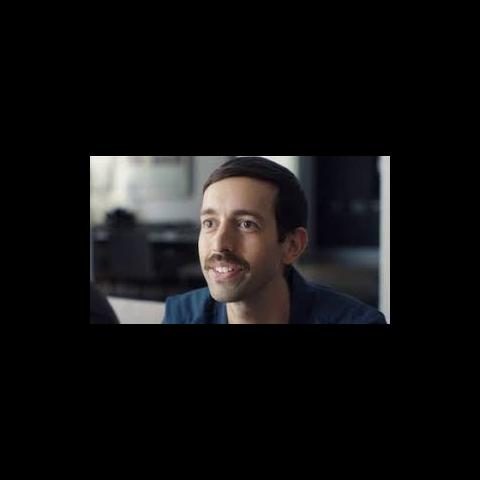opened: (197, 208, 264, 238)
